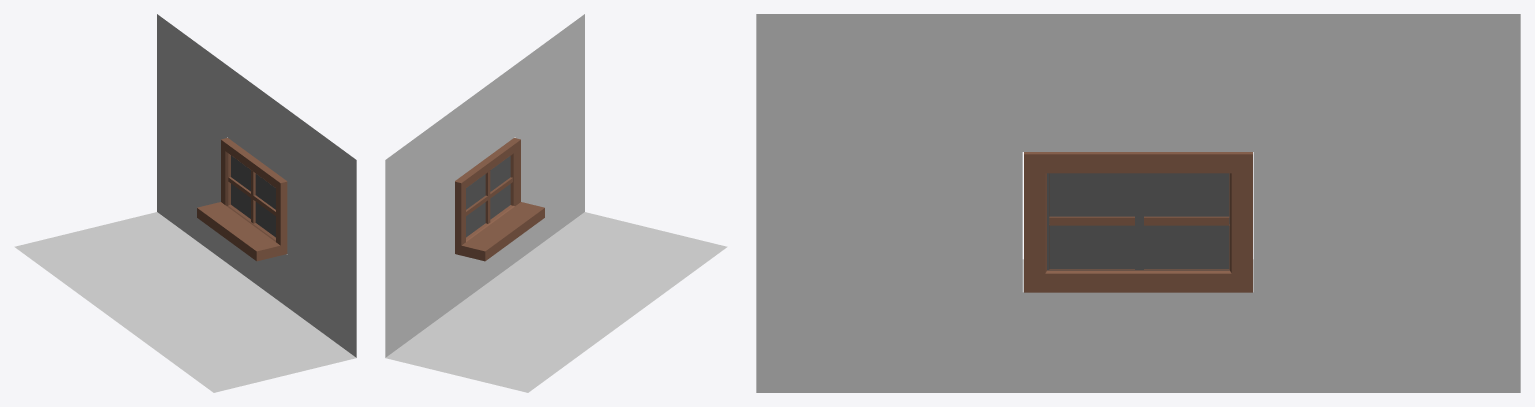
The model's file is Window.glb.
The picture shows the model from 3 angles, left to right: view 1: azimuth 30°, elevation 25°; view 2: azimuth 150°, elevation 25°; view 3: azimuth 270°, elevation 25°; orthographic projection. The views are drawn at different scales.
Visible parts, largest first — view 1: Plane, Frame, Placer, Glass, Left Frame, Right frame; view 2: Plane, Placer, Frame, Glass, Left Frame, Right frame; view 3: Plane, Glass, Frame, Left Frame, Right frame.
Part boxes in pixels (x1,y1,x2,y2): Plane: (14,14,356,392); Frame: (221,138,287,255); Placer: (197,202,280,261); Glass: (231,155,275,237); Left Frame: (228,153,252,222); Right frame: (252,171,275,239); Plane: (385,14,727,392); Placer: (461,202,544,261); Frame: (455,138,520,255); Glass: (466,156,510,237); Left Frame: (466,171,489,239); Right frame: (489,154,512,222); Plane: (756,14,1520,392); Glass: (1047,173,1229,270); Frame: (1024,152,1252,292); Left Frame: (1144,173,1229,269); Right frame: (1049,173,1134,269).
Bounding box in the file's own units: 18.07 × 23.76 × 43.43.
